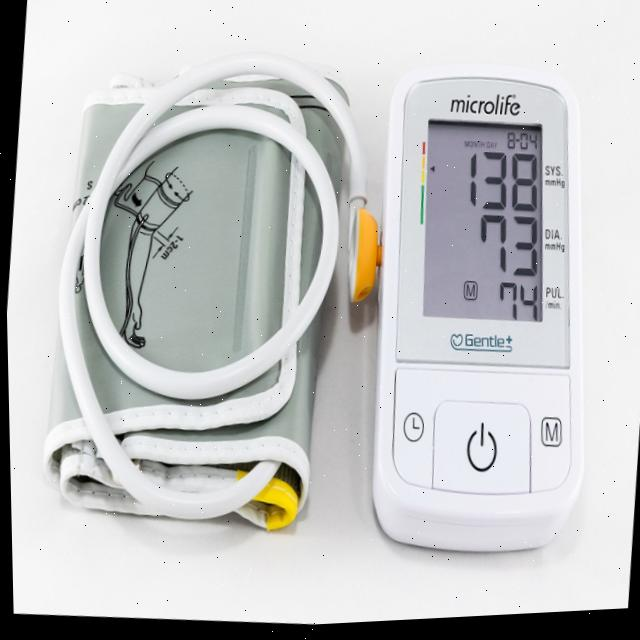dia: (472, 217, 540, 283)
pul: (495, 277, 540, 331)
ssd: (421, 122, 542, 327)
sys: (459, 150, 541, 217)
